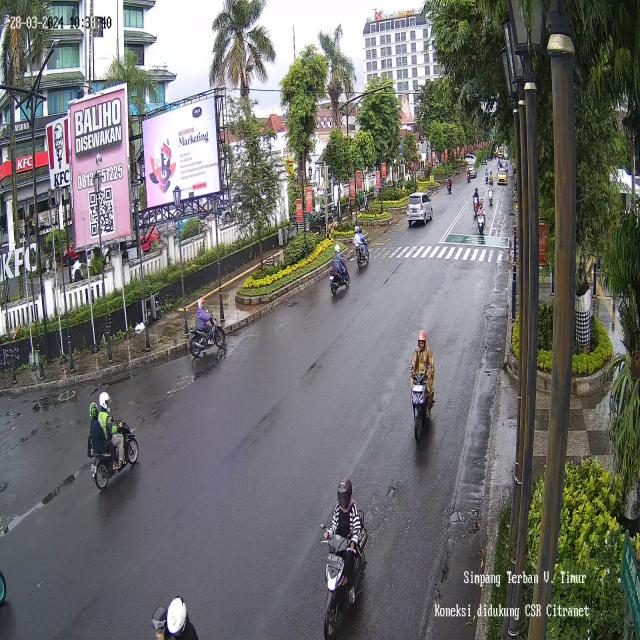car: (407, 192, 433, 226)
motorcycle: (321, 477, 368, 640), (88, 391, 139, 485), (406, 328, 435, 440), (190, 293, 229, 362), (329, 243, 349, 301), (352, 224, 368, 271), (478, 199, 486, 235), (472, 186, 480, 214), (487, 180, 494, 210), (447, 173, 452, 196)
